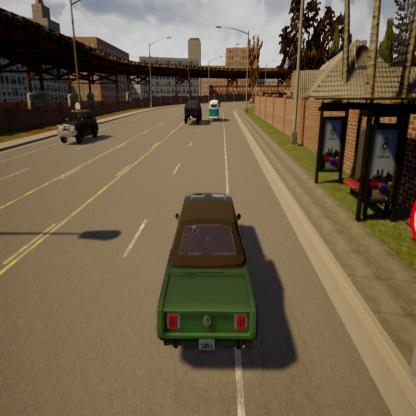Cars: (146, 176, 267, 366), (55, 103, 101, 149), (182, 96, 204, 128), (207, 97, 222, 125), (211, 92, 223, 107), (247, 95, 254, 106)
